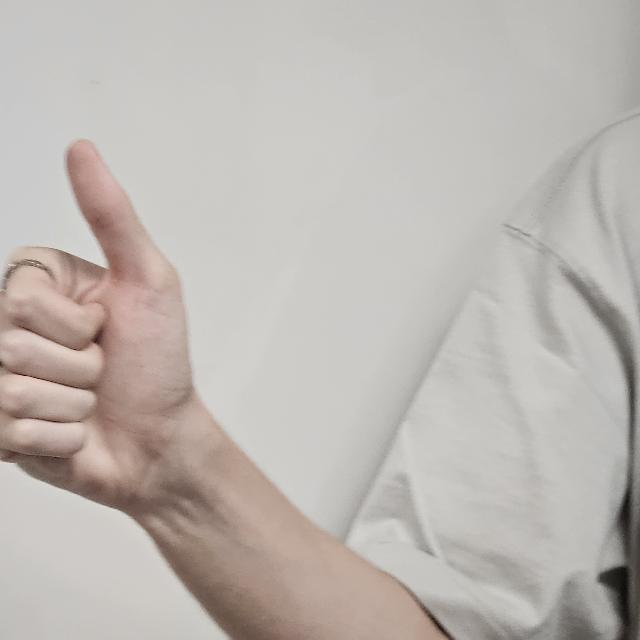Start: (2, 137, 204, 535)
